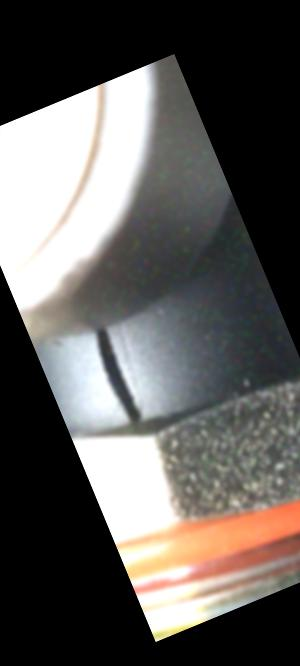craze: (80, 322, 143, 426)
joint line: (108, 319, 155, 408)
